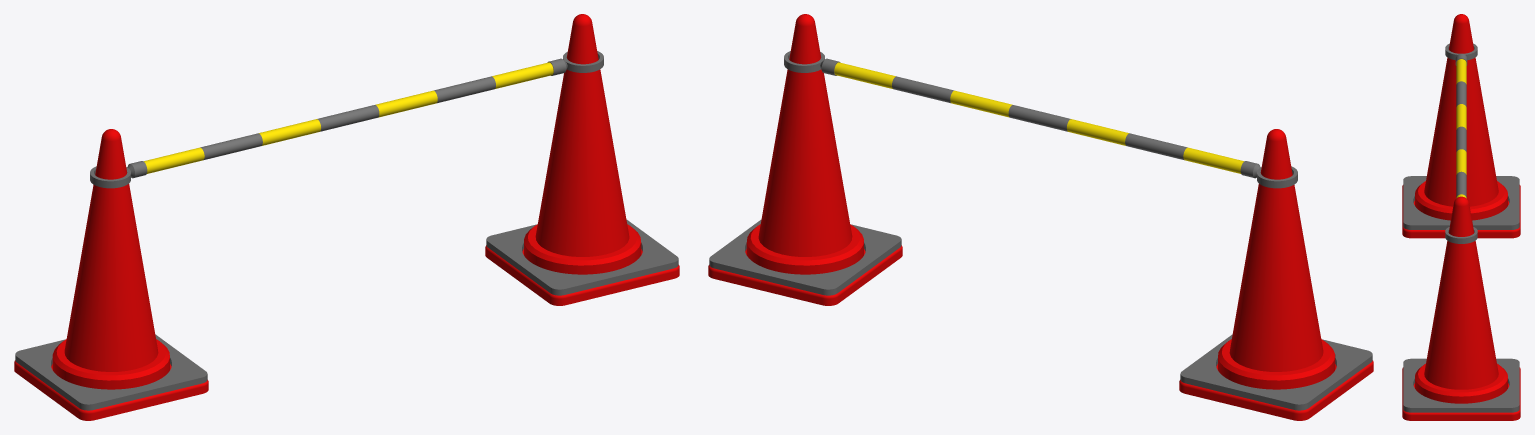
File: long_red_corn.glb
The picture shows the model from 3 angles, left to right: view 1: azimuth 30°, elevation 25°; view 2: azimuth 150°, elevation 25°; view 3: azimuth 270°, elevation 25°; orthographic projection. The views are drawn at different scales.
Visible parts, largest first — view 1: pylon, pylon2, pylon_bar_1.5m, bed2, bed; view 2: pylon, pylon2, pylon_bar_1.5m, bed2, bed; view 3: pylon2, pylon, bed2, bed, pylon_bar_1.5m.
Part boxes in pixels (box(x1,y1,x2,y2)): pylon: box(14, 129, 208, 420); pylon2: box(485, 14, 679, 305); pylon_bar_1.5m: box(90, 51, 603, 188); bed2: box(486, 219, 678, 295); bed: box(15, 334, 207, 410); pylon: box(1179, 129, 1373, 420); pylon2: box(708, 14, 902, 305); pylon_bar_1.5m: box(784, 51, 1297, 188); bed2: box(709, 219, 901, 295); bed: box(1180, 334, 1372, 410); pylon2: box(1402, 196, 1520, 420); pylon: box(1402, 14, 1520, 238); bed2: box(1403, 358, 1519, 412); bed: box(1403, 176, 1519, 229); pylon_bar_1.5m: box(1445, 43, 1477, 243).
Size of the model in its own units: 1.77 by 0.705 by 0.38.
